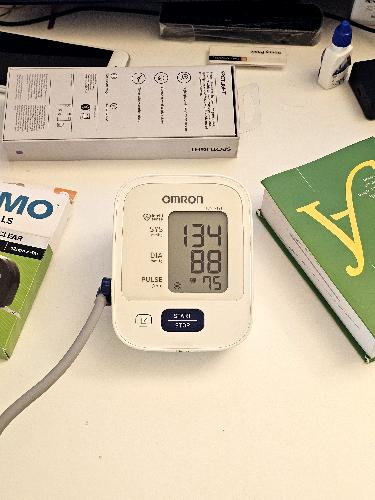bpm: (167, 211, 229, 293)
